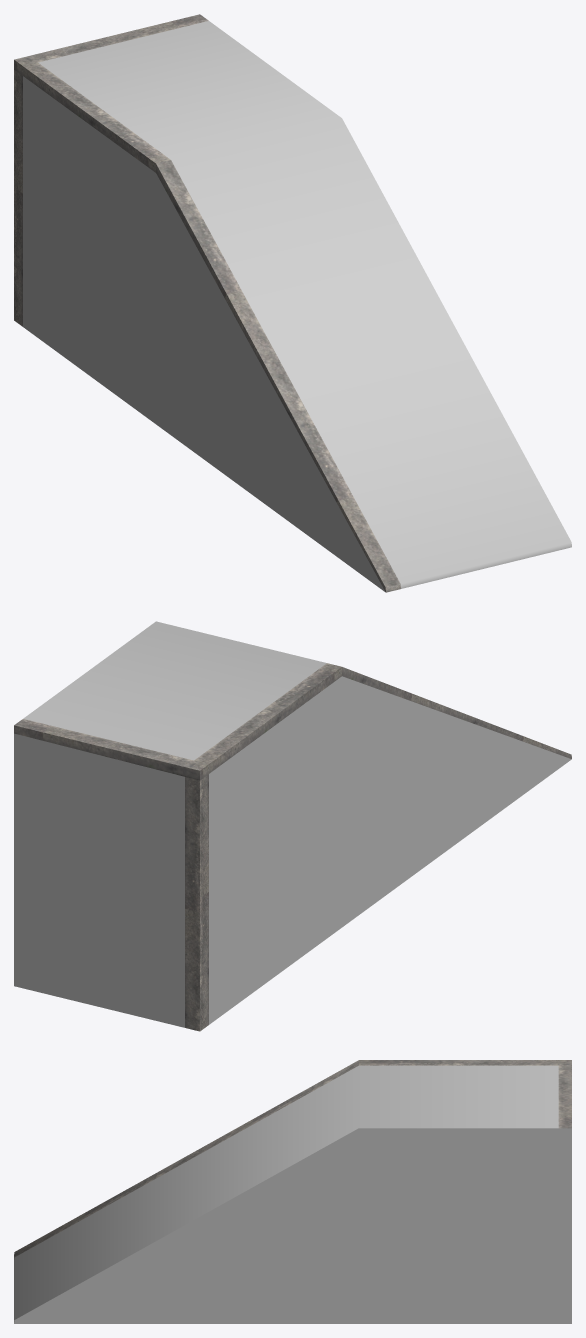
Rendered from JpHouseJ_StoneWall_slope01al.fbx.
3 views of the same model, one above another, from view 1: azimuth 30°, elevation 25°; view 2: azimuth 150°, elevation 25°; view 3: azimuth 270°, elevation 25° (orthographic). The views are drawn at different scales.
Visible parts, largest first — view 1: JpHouseJ_StoneWall_slope01al; view 2: JpHouseJ_StoneWall_slope01al; view 3: JpHouseJ_StoneWall_slope01al.
Boxes of the visible parts, box(x1,y1,x2,y2) form: JpHouseJ_StoneWall_slope01al: box(14, 14, 571, 592); JpHouseJ_StoneWall_slope01al: box(14, 621, 571, 1031); JpHouseJ_StoneWall_slope01al: box(14, 1060, 571, 1323).
Size of the model in its own units: 2.88 by 3.85 by 9.96.
